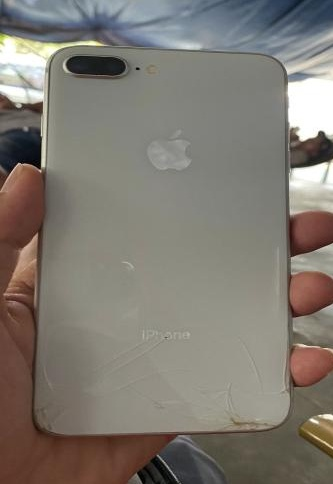physical_damage: (158, 379, 243, 439), (74, 353, 150, 406), (231, 335, 290, 402), (128, 334, 197, 372), (28, 345, 69, 405), (246, 404, 295, 440), (30, 406, 79, 439)
